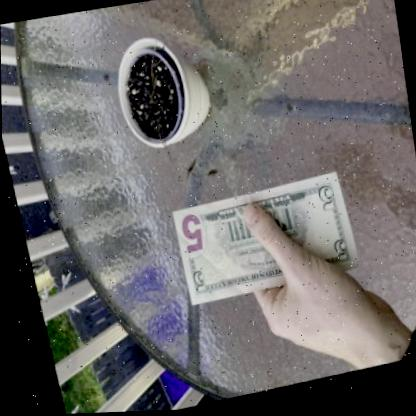dollar_back: (164, 176, 354, 310)
